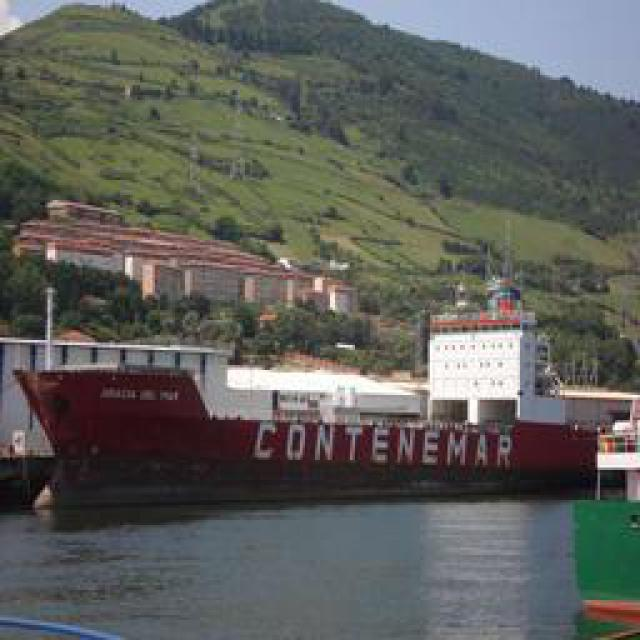Ship: (13, 352, 618, 512)
